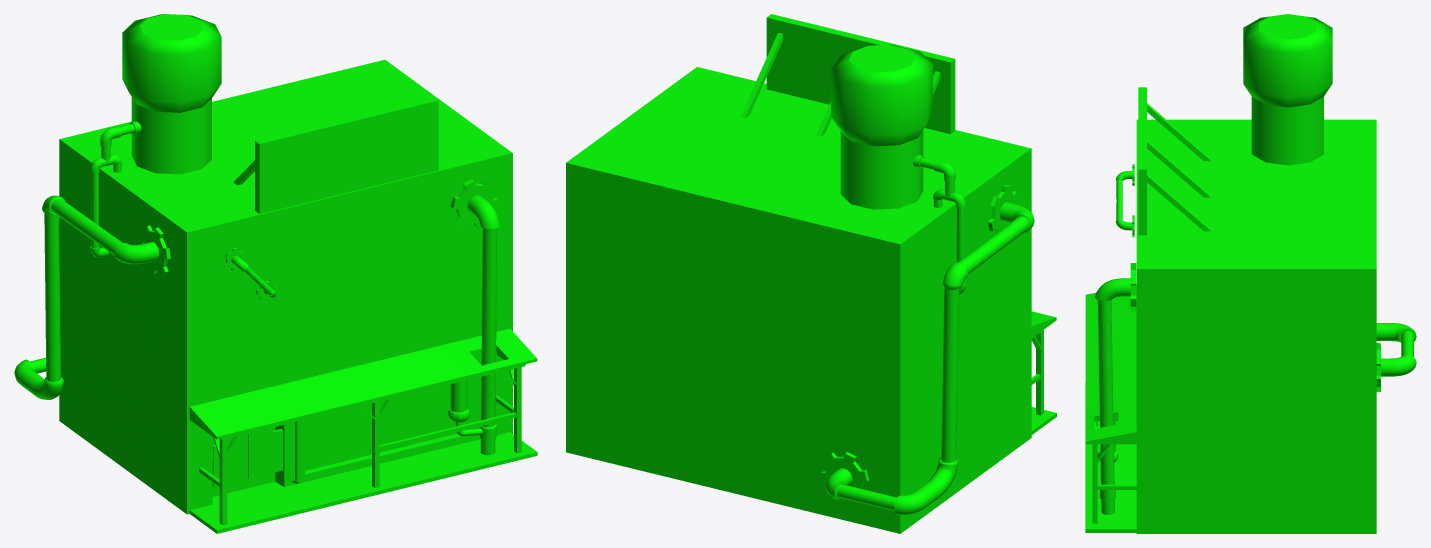
Rendered from BarberShop.obj.
3 renders of one model, left to right at view 1: azimuth 30°, elevation 25°; view 2: azimuth 150°, elevation 25°; view 3: azimuth 270°, elevation 25°, orthographic. The views are drawn at different scales.
Visible parts, largest first — view 1: pCube1, pCube12, pCylinder1, pCube6, pCube2, pPipe5, pPipe2, polySurface5, polySurface2, pCylinder3, pPipe11, group3 pCube28 (+5 smaller); view 2: pCube1, pCylinder1, pPipe5, pCube12, pCylinder3, pCube40, pCylinder2, group3 pCube33; view 3: pCube1, pCylinder1, pCube6, pPipe2, pCube2, pPipe5, pCube12, pPipe11, pCube40, pCube19, pCube41, group3 pCube4.
Boxes of the visible parts, left/top/right/bottom form: pCube1: left=59, top=59, right=512, bottom=514; pCube12: left=255, top=97, right=438, bottom=213; pCylinder1: left=122, top=14, right=221, bottom=174; pCube6: left=189, top=328, right=537, bottom=439; pCube2: left=189, top=432, right=537, bottom=533; pPipe5: left=14, top=195, right=170, bottom=399; pPipe2: left=450, top=179, right=499, bottom=455; polySurface5: left=248, top=428, right=282, bottom=478; polySurface2: left=212, top=434, right=247, bottom=487; pCylinder3: left=90, top=154, right=122, bottom=257; pPipe11: left=224, top=248, right=277, bottom=301; group3 pCube28: left=373, top=412, right=516, bottom=451; pCube1: left=566, top=67, right=1031, bottom=533; pCylinder1: left=831, top=45, right=932, bottom=209; pPipe5: left=821, top=185, right=1034, bottom=515; pCube12: left=766, top=14, right=955, bottom=133; pCylinder3: left=933, top=189, right=965, bottom=294; pCube40: left=740, top=32, right=782, bottom=118; pCylinder2: left=913, top=155, right=955, bottom=197; group3 pCube33: left=1036, top=330, right=1043, bottom=415; pCube1: left=1136, top=119, right=1376, bottom=533; pCylinder1: left=1243, top=14, right=1332, bottom=165; pCube6: left=1085, top=285, right=1136, bottom=444; pPipe2: left=1095, top=263, right=1136, bottom=514; pCube2: left=1085, top=382, right=1136, bottom=532; pPipe5: left=1376, top=323, right=1416, bottom=391; pCube12: left=1138, top=87, right=1146, bottom=235; pPipe11: left=1115, top=164, right=1134, bottom=237; pCube40: left=1147, top=173, right=1211, bottom=231; pCube19: left=1147, top=140, right=1211, bottom=197; pCube41: left=1147, top=103, right=1211, bottom=161; group3 pCube4: left=1092, top=444, right=1097, bottom=523.
Bounding box in the file's own units: 127 × 138 × 107.
